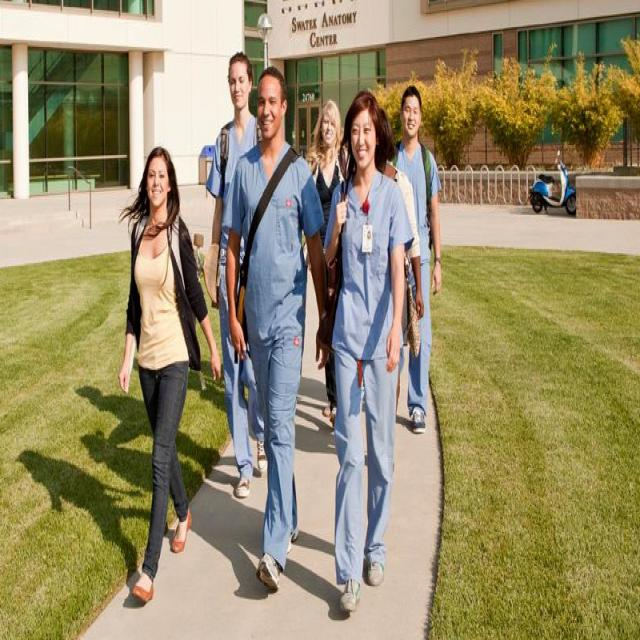body: (14, 330, 416, 623), (223, 61, 335, 596), (114, 141, 224, 606), (323, 85, 417, 613), (202, 47, 268, 503), (389, 84, 442, 435), (304, 97, 354, 425), (370, 107, 424, 357)
